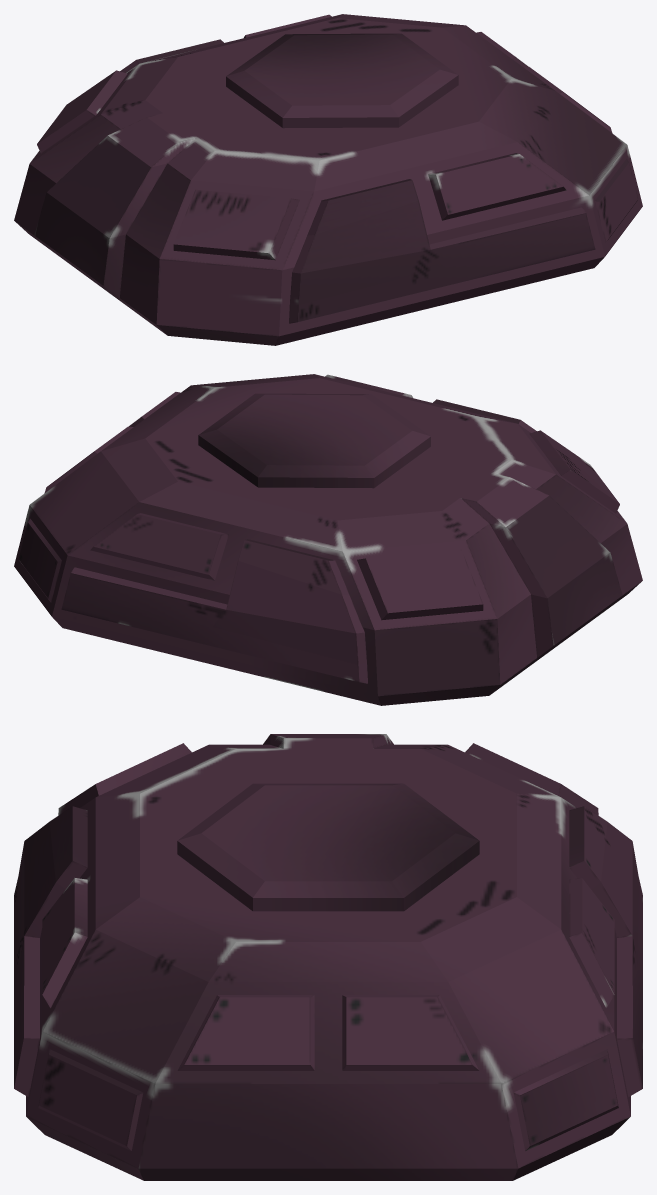
The model's file is StylizedTankTurretBase.fbx.
The picture shows the model from 3 angles, top to bottom: view 1: azimuth 30°, elevation 25°; view 2: azimuth 150°, elevation 25°; view 3: azimuth 270°, elevation 25°; orthographic projection. The views are drawn at different scales.
Parts seen in each view (by area): view 1: TankBody.001; view 2: TankBody.001; view 3: TankBody.001.
Boxes of the visible parts, box(x1,y1,x2,y2) form: TankBody.001: box(14, 14, 642, 345); TankBody.001: box(14, 374, 642, 705); TankBody.001: box(14, 734, 642, 1180).
Size of the model in its own units: 95.82 by 28.31 by 77.97.
